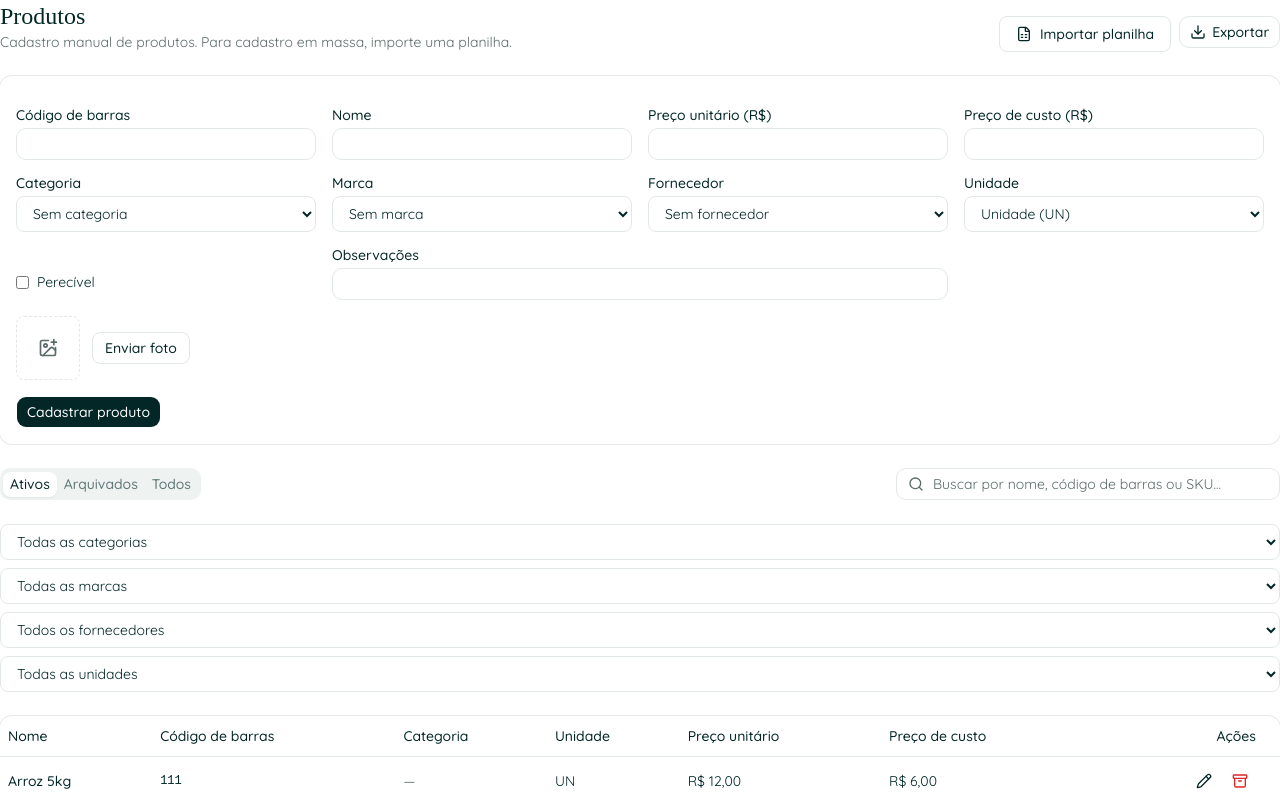
ProductsPage — linha do tempo de preços no diálogo de edição › no diálogo de edição, "Histórico de alterações" abre a gaveta daquele produto
This screenshot has width=1280, height=800.
Click the button named "Editar Arroz 5kg": (1204, 780) [1188,764,1220,796]
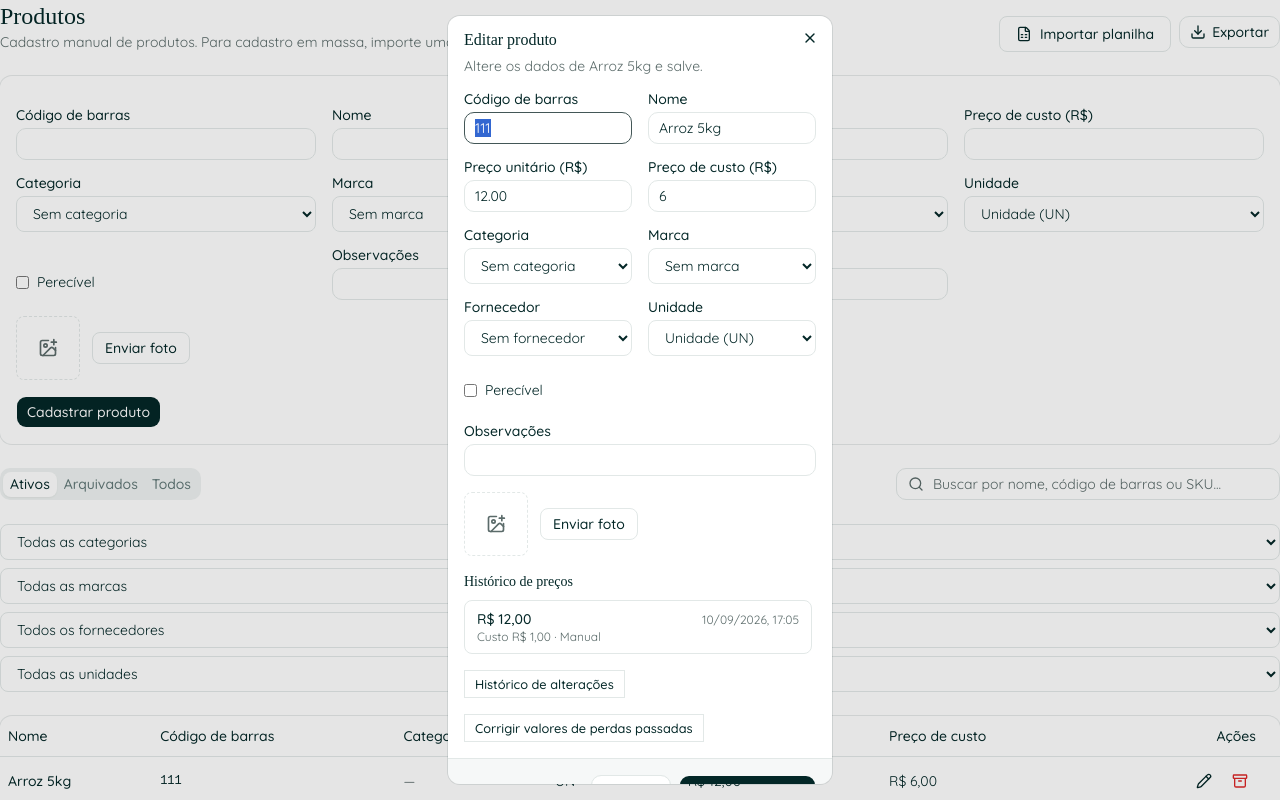
Click the button "Histórico de alterações": (544, 684) [464,670,625,698]
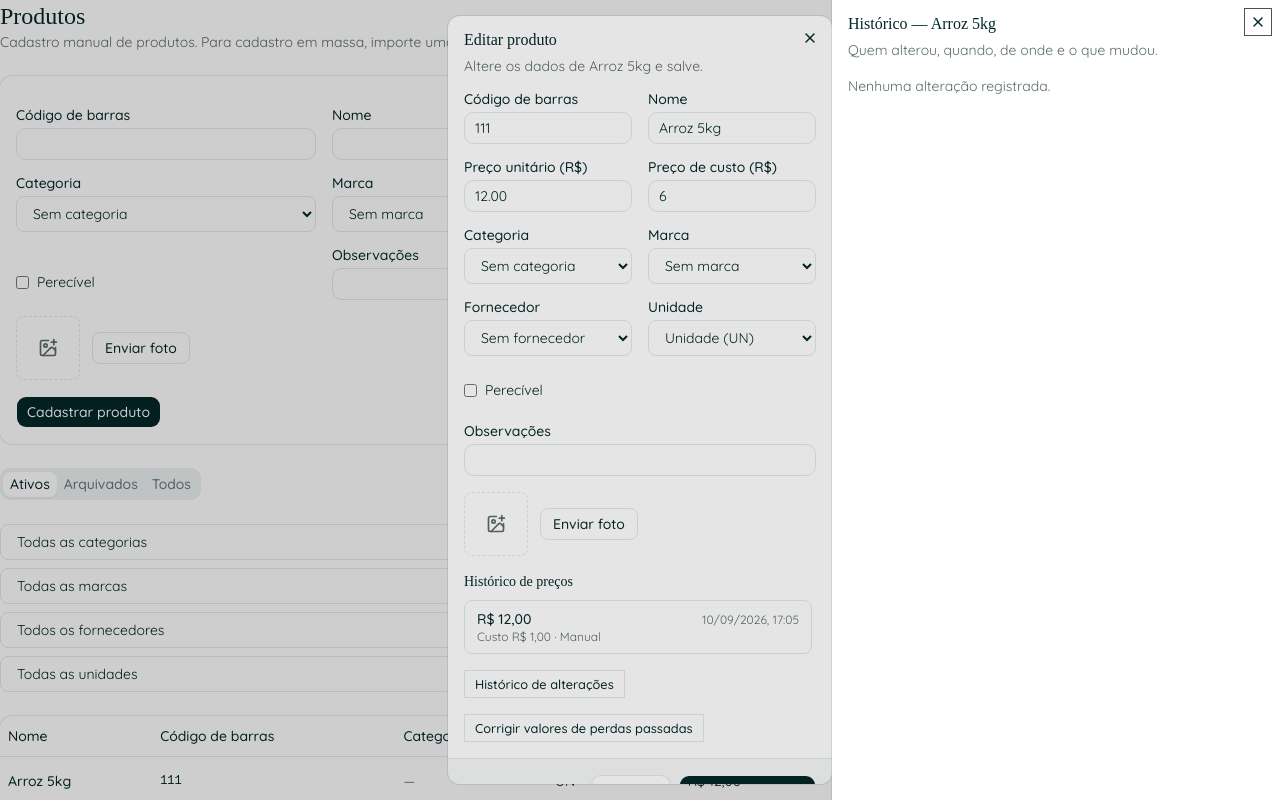
Expected: the heading "Histórico — Arroz 5kg" is shown, [848,15,996,32]
